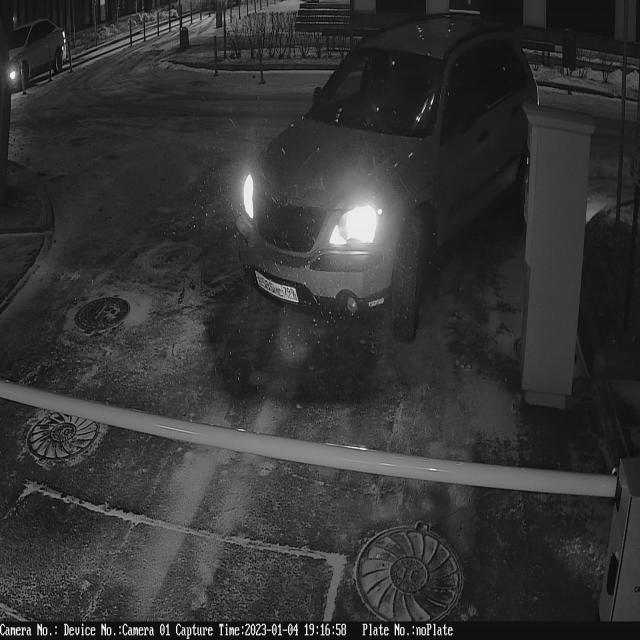car-plate-numbers: (255, 267, 301, 309)
